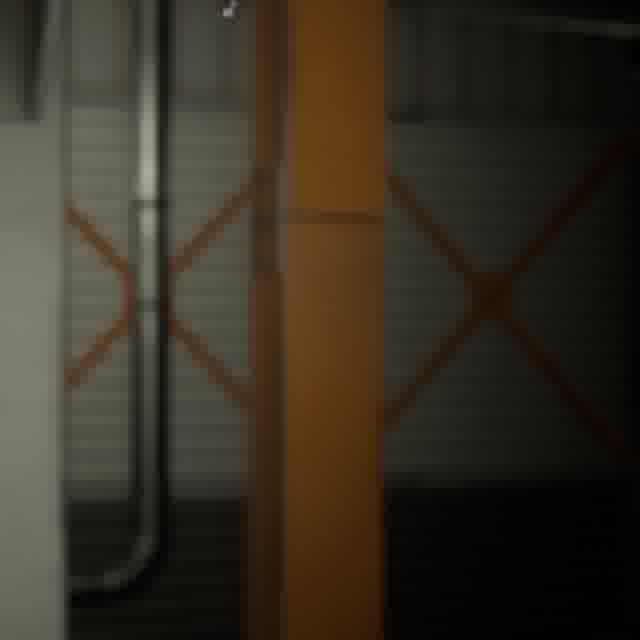bolt: (213, 0, 245, 28)
